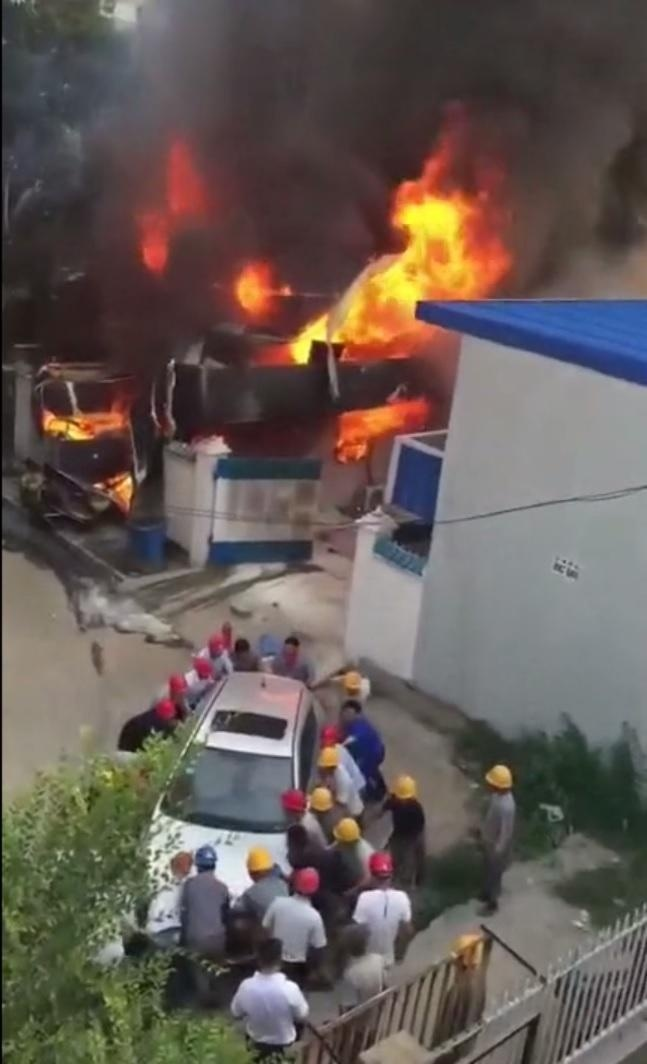fire: (267, 160, 509, 357), (334, 393, 428, 456), (39, 401, 131, 442), (229, 263, 282, 313), (99, 467, 135, 509)
